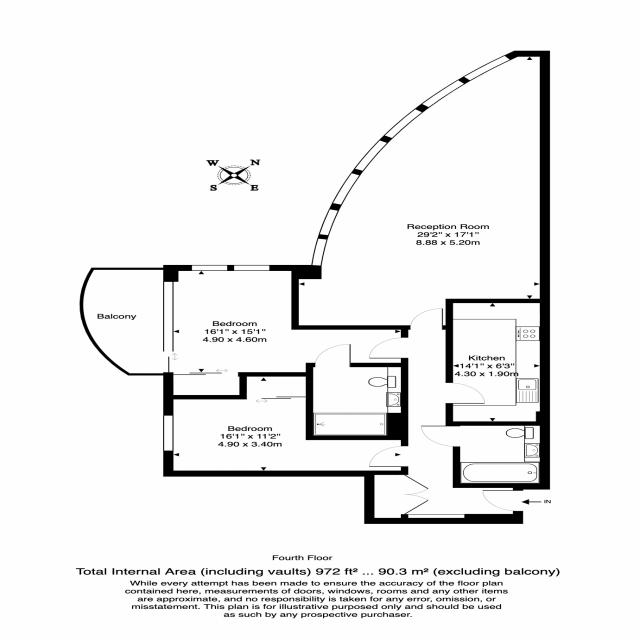DOOR: (480, 489, 523, 512), (445, 381, 486, 404), (419, 425, 461, 447), (368, 445, 409, 467), (369, 337, 408, 359), (314, 344, 351, 367), (408, 308, 444, 330)
DOUBLE DOOR: (400, 473, 432, 516)
ROOM: (291, 50, 551, 330), (163, 265, 408, 400), (163, 372, 409, 477), (445, 298, 551, 426)
SLIDING DOOR: (162, 281, 175, 374), (244, 396, 307, 400)
WINDOW: (420, 79, 467, 109), (462, 54, 512, 82), (382, 107, 425, 139), (352, 139, 390, 172), (331, 172, 362, 206), (318, 208, 340, 236), (310, 237, 329, 267), (163, 415, 174, 451), (232, 264, 271, 271), (190, 264, 228, 271)
